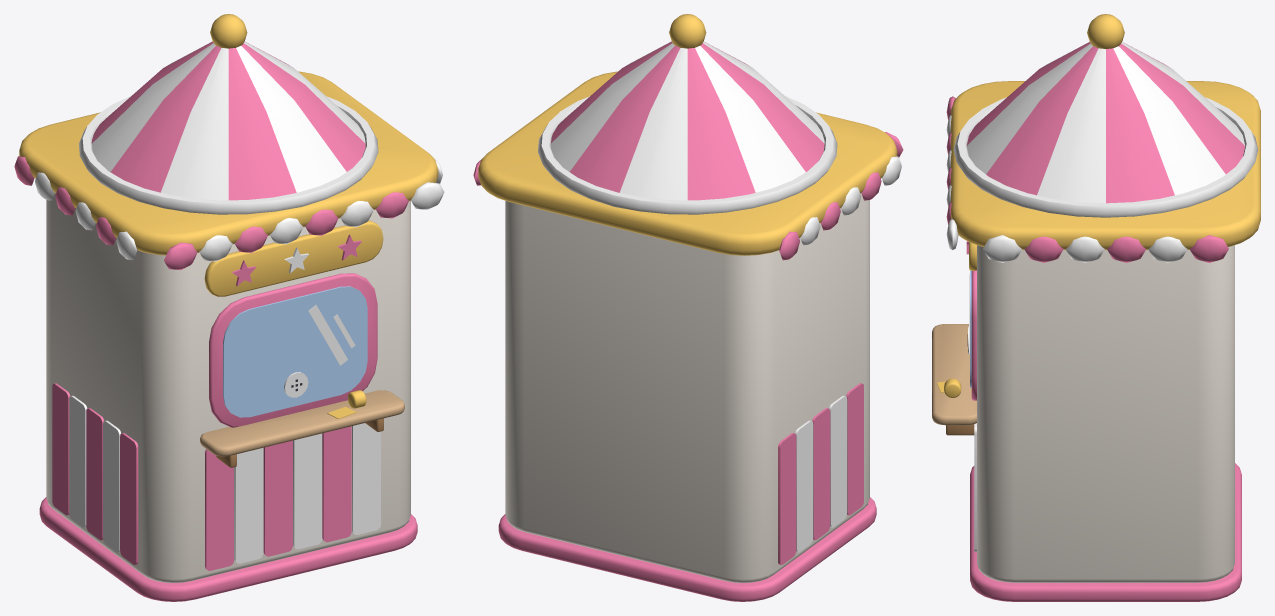
Rendered from ticket_booth.glb.
3 views of the same model, side by side, from view 1: azimuth 30°, elevation 25°; view 2: azimuth 150°, elevation 25°; view 3: azimuth 270°, elevation 25° (orthographic).
Visible parts, largest first — view 1: ticket_booth; view 2: ticket_booth; view 3: ticket_booth.
Boxes of the visible parts, bbox=[...] form: ticket_booth: bbox=[14, 14, 444, 601]; ticket_booth: bbox=[473, 14, 903, 601]; ticket_booth: bbox=[932, 14, 1260, 601].
Bounding box in the file's own units: 2.15 × 3.33 × 1.91.
